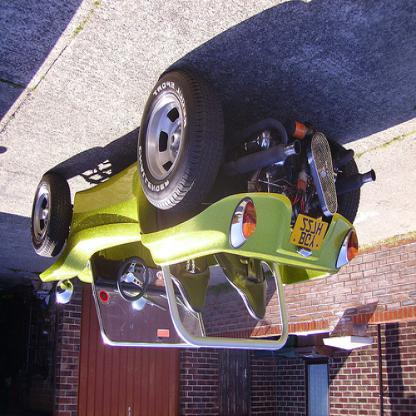car: (32, 70, 378, 350)
